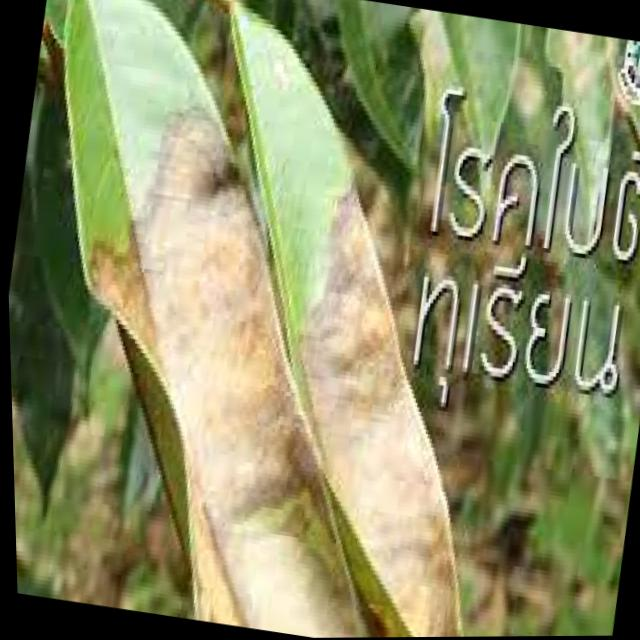Leaf Blight: (77, 102, 447, 640)
